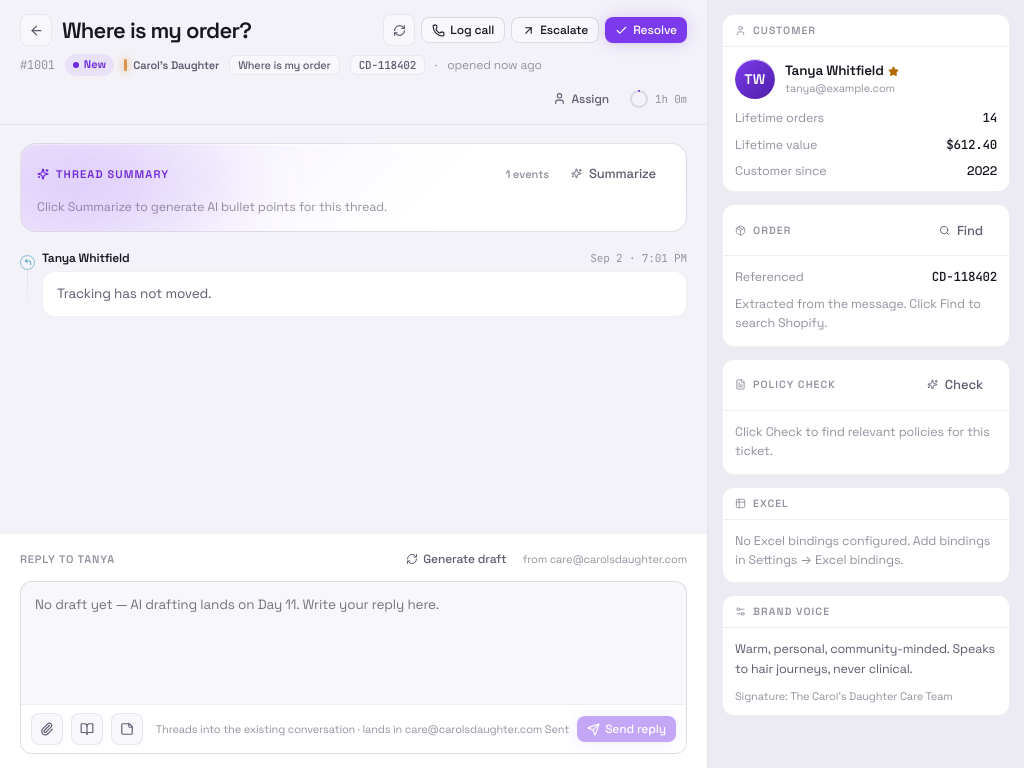
sending a reply › explains a 409 as already in flight, not as a failure to send
Replace the text in the text box with placeholder "Write your reply here" with "Double clicked." at (354, 641), box [21,582,686,700]
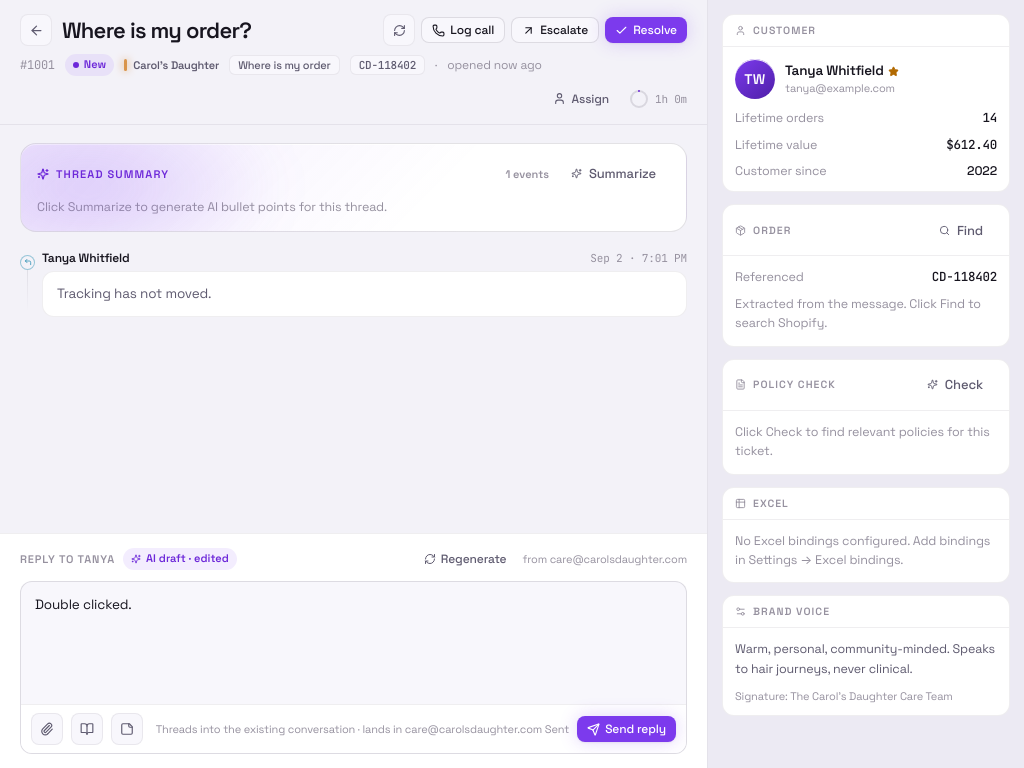
Click the button "Send reply" at (627, 729), box [577,716,676,742]
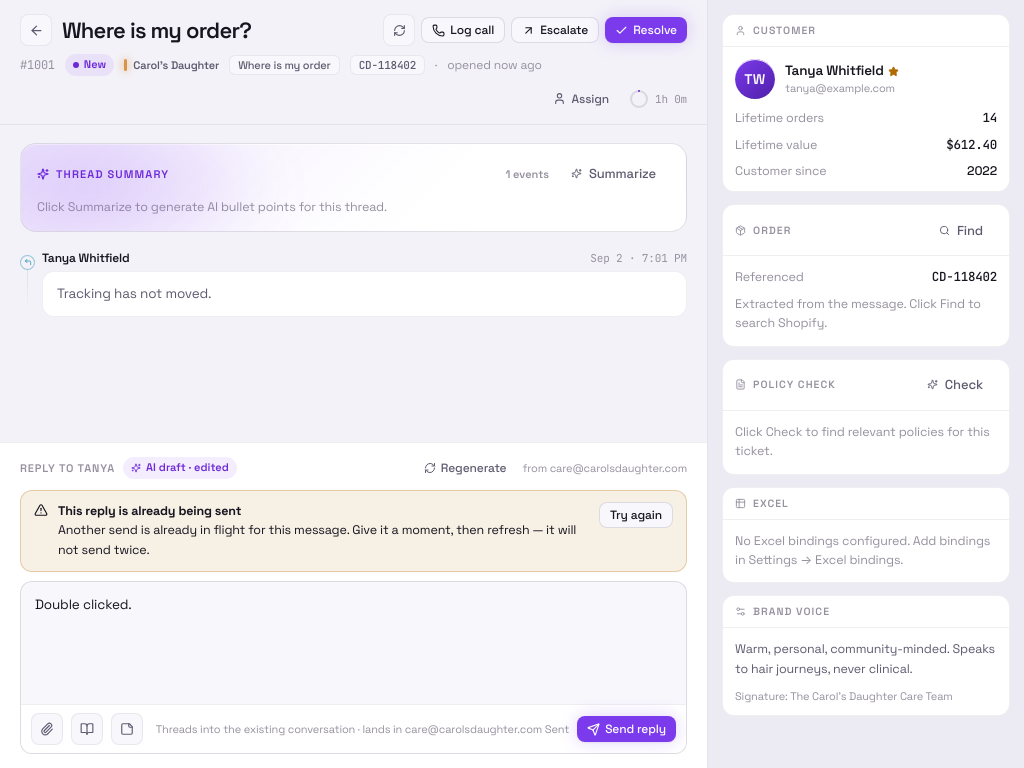
Now the text "This reply is already being sent" is shown, box [58,503,241,519]
Now the text "will not send twice" is shown, box [58,522,576,558]
